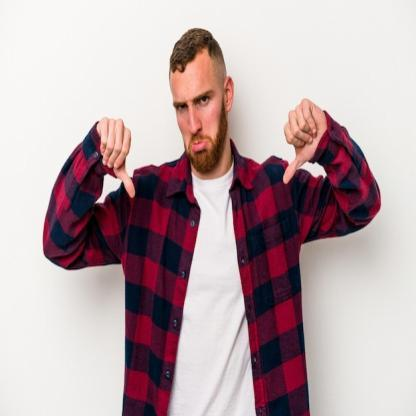thumb_down: (280, 93, 323, 188), (95, 113, 139, 201)
